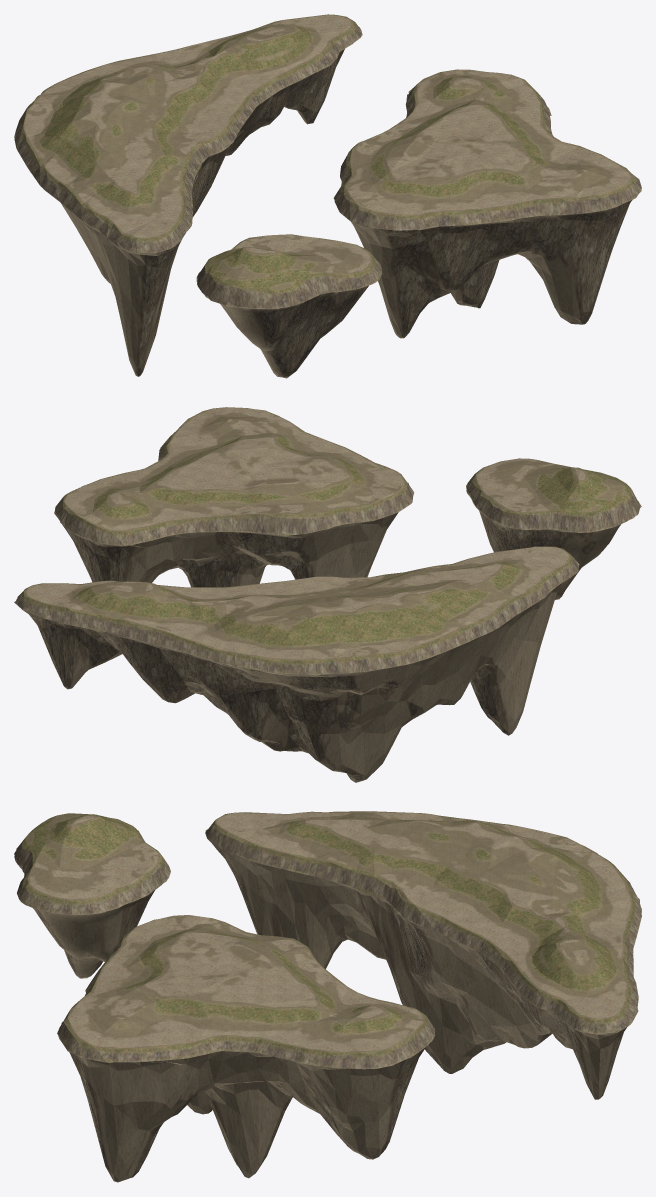
File: island_base_main3.glb
The picture shows the model from 3 angles, top to bottom: view 1: azimuth 30°, elevation 25°; view 2: azimuth 150°, elevation 25°; view 3: azimuth 270°, elevation 25°; orthographic projection. The views are drawn at different scales.
Parts seen in each view (by area): view 1: island_6_2; view 2: island_6_2; view 3: island_6_2.
Part boxes in pixels (x1,y1,x2,y2): island_6_2: (14,14,641,378); island_6_2: (14,407,641,782); island_6_2: (14,811,641,1182).
Bounding box in the file's own units: 6.88 × 2.87 × 7.29.
Materials: 1 (1 with a texture image).
